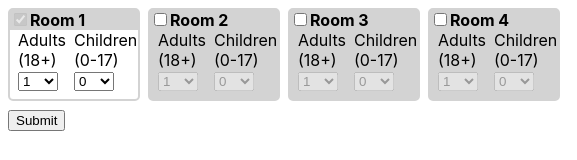
Test: Dynamic Form › Interaction with the form › The Select Options › The Adult Selection › is enabled if the corresponding checkbox is unchecked
Click the checkbox labelled "Room 3".
click(300, 20)  # box [294,13,307,26]
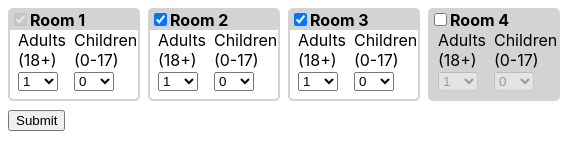
Result: the 3rd dropdown labelled "Adults (18+)" is enabled at [298,72,338,91]
